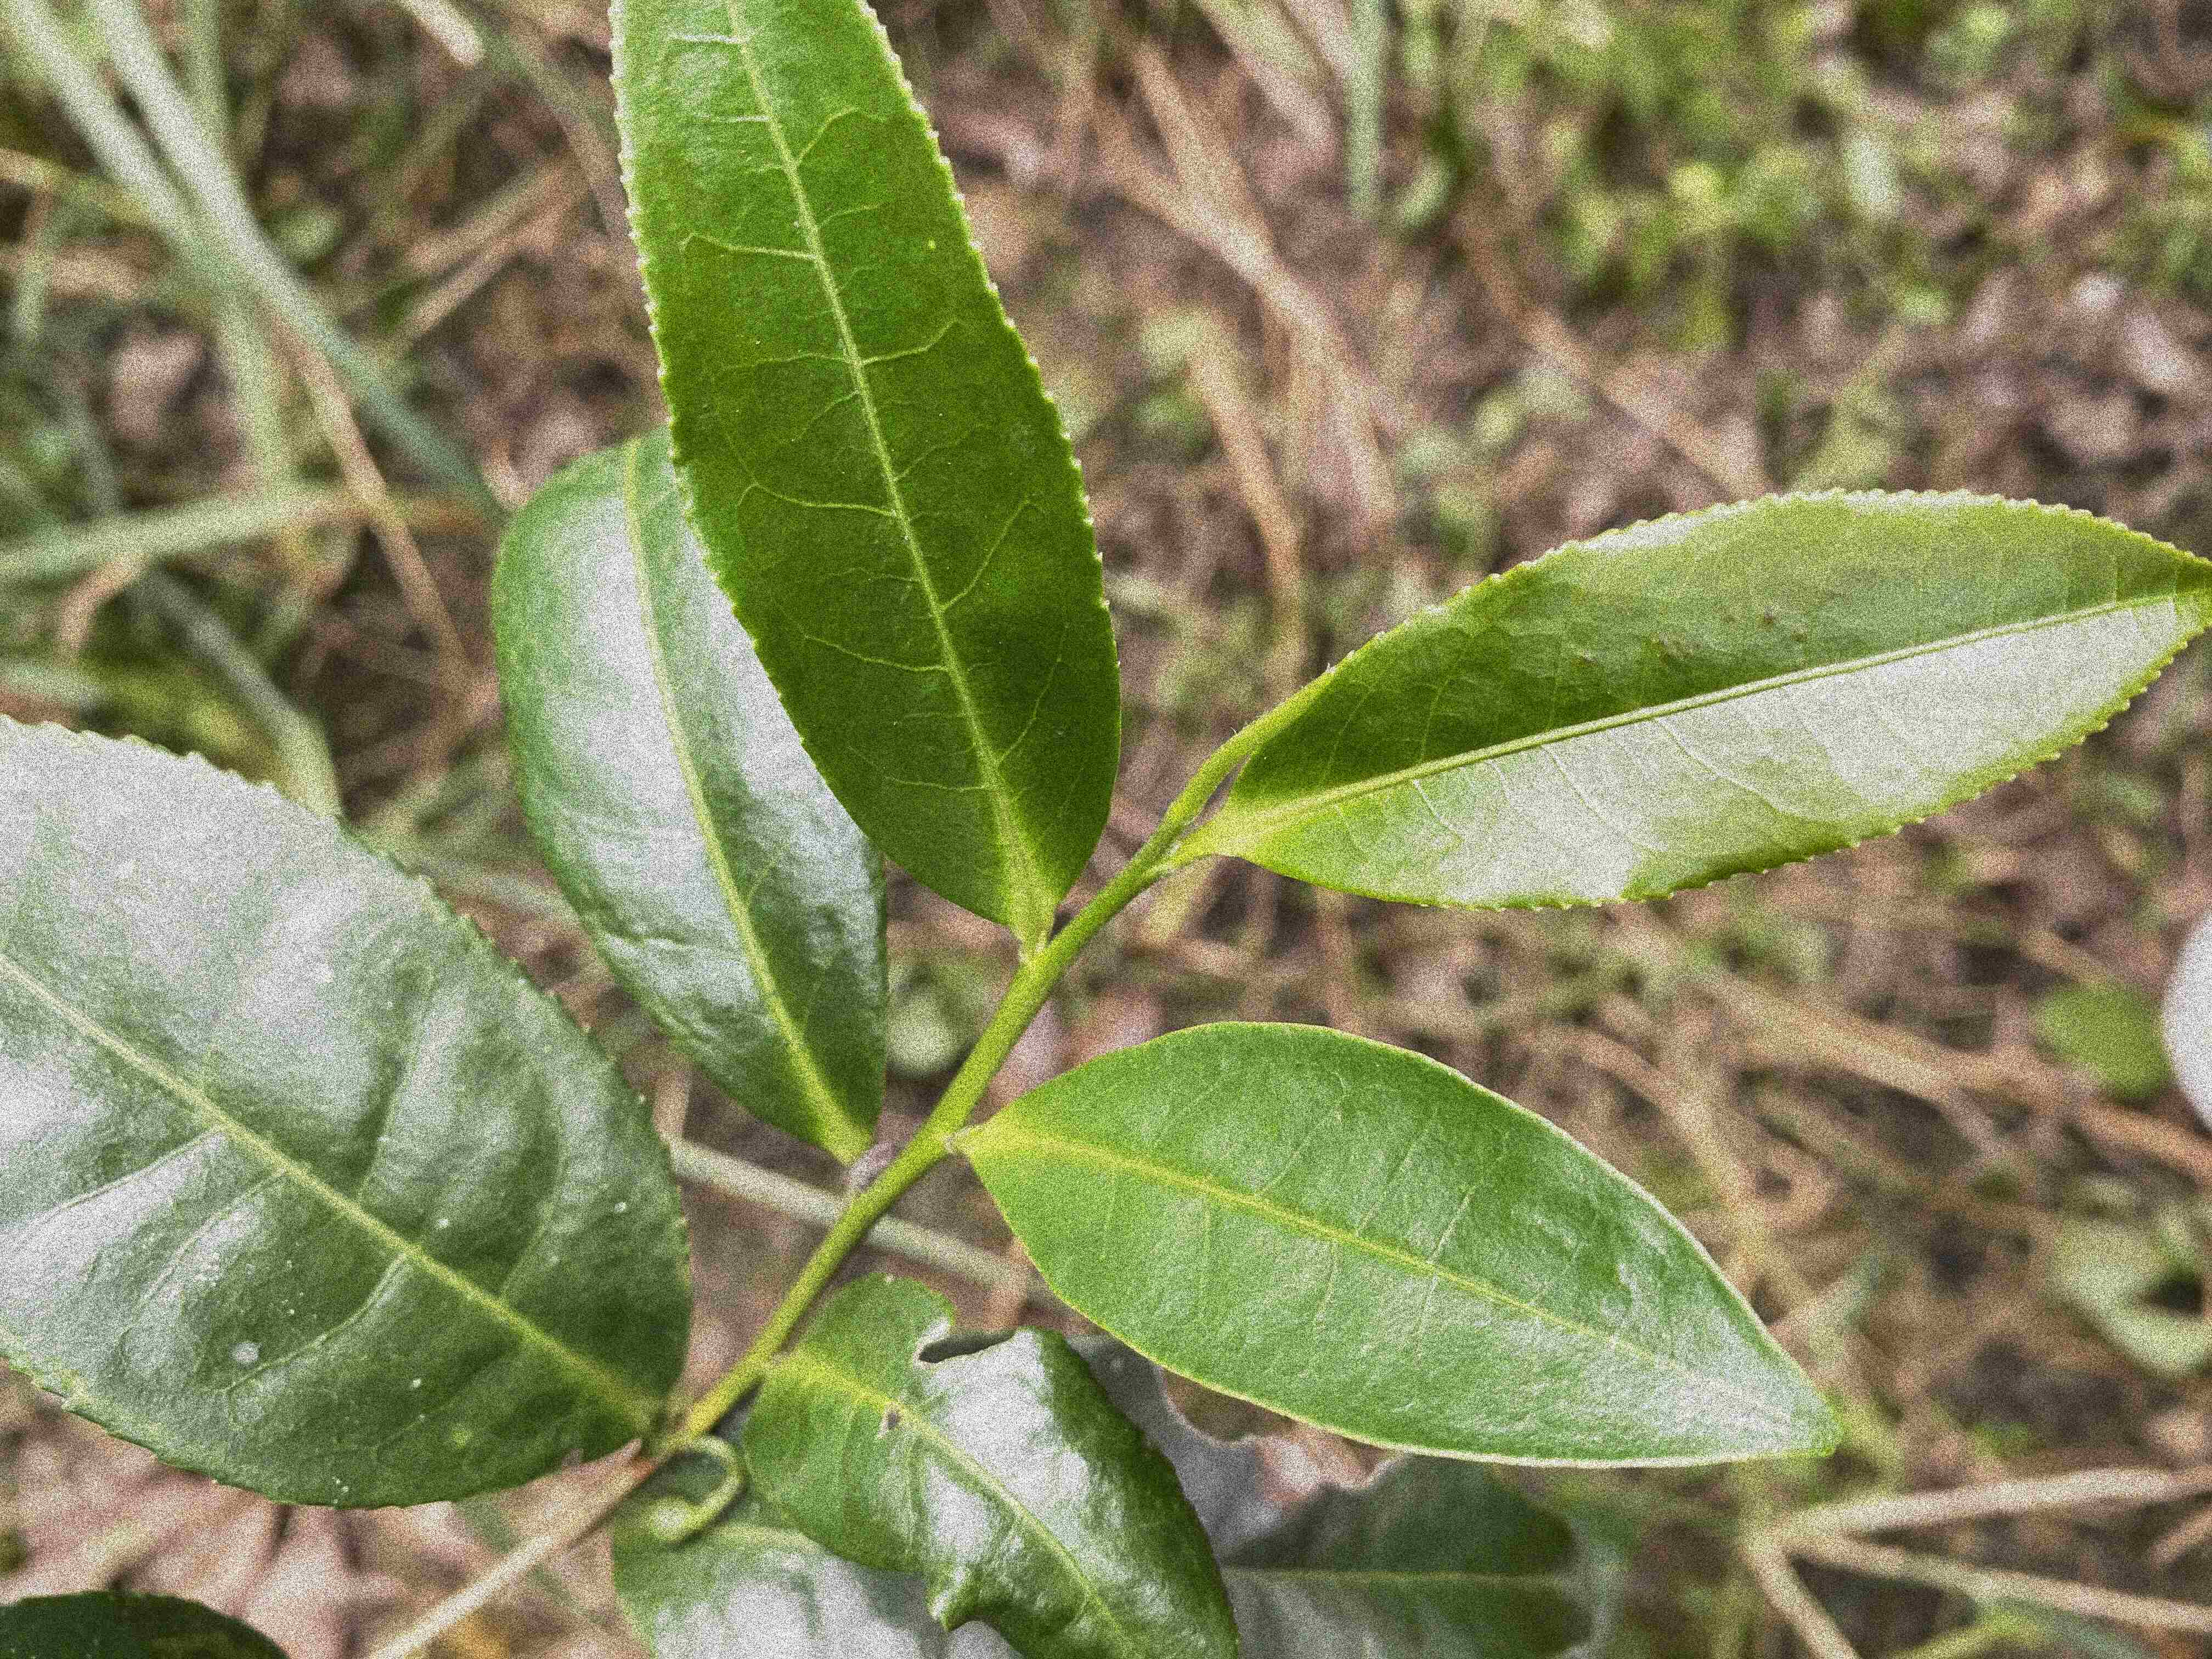chihuo_high: (745, 1269, 1240, 1656)
healthy: (603, 0, 1125, 922), (1226, 484, 2209, 910), (972, 1014, 1844, 1471), (489, 429, 887, 1159)
